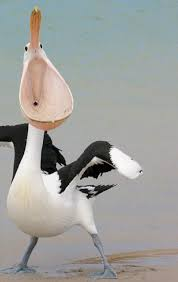pelican: (1, 7, 142, 279)
